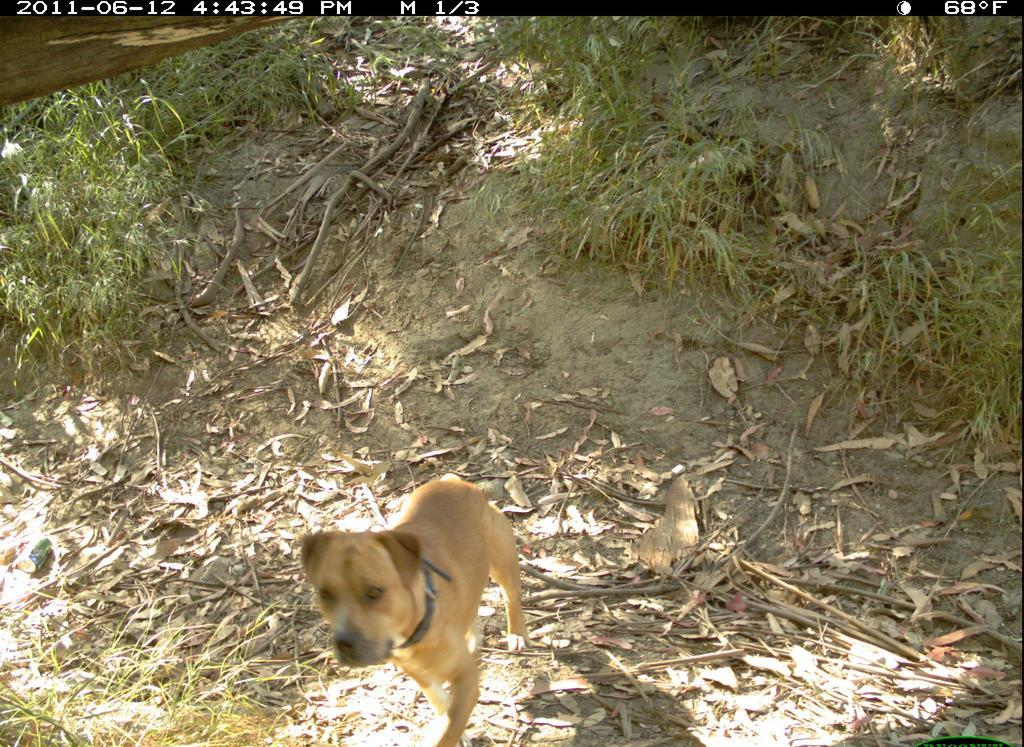dog: (281, 457, 545, 747)
